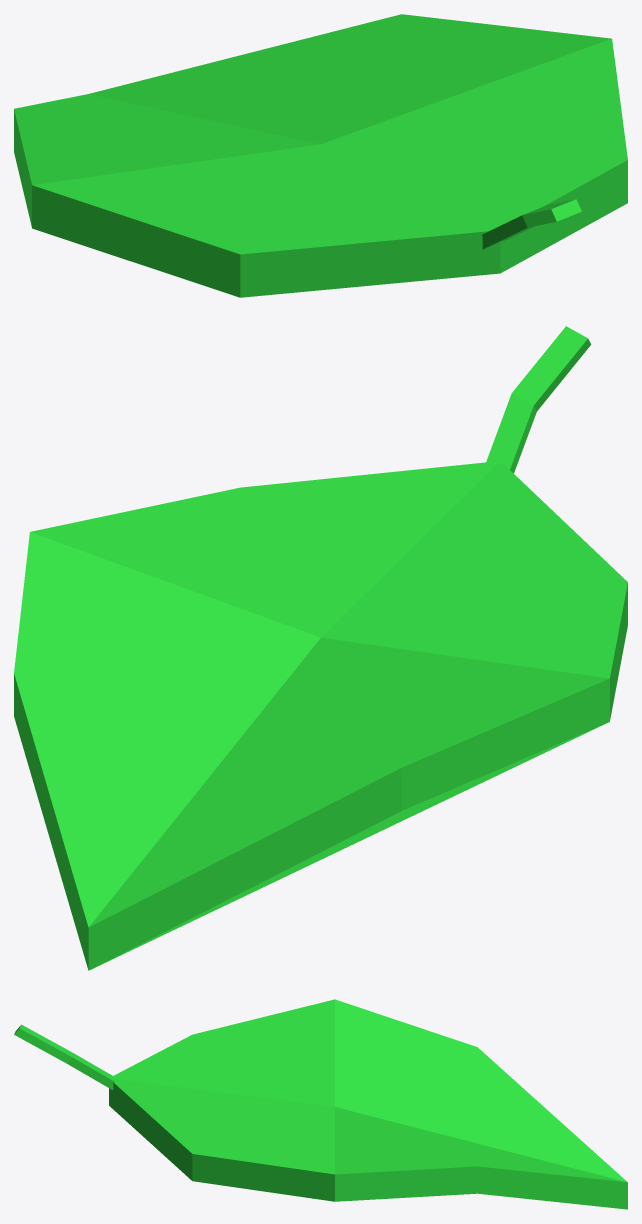
File: hojaalmacen.fbx
3 renders of one model, top to bottom at view 1: azimuth 30°, elevation 25°; view 2: azimuth 150°, elevation 25°; view 3: azimuth 270°, elevation 25°, orthographic. The views are drawn at different scales.
Parts seen in each view (by area): view 1: Cube.001; view 2: Cube.001; view 3: Cube.001.
Boxes of the visible parts, <box> form: Cube.001: <box>14,14,627,297</box>; Cube.001: <box>14,326,627,970</box>; Cube.001: <box>14,999,627,1209</box>.
Bounding box in the file's own units: 296 × 142 × 431.
